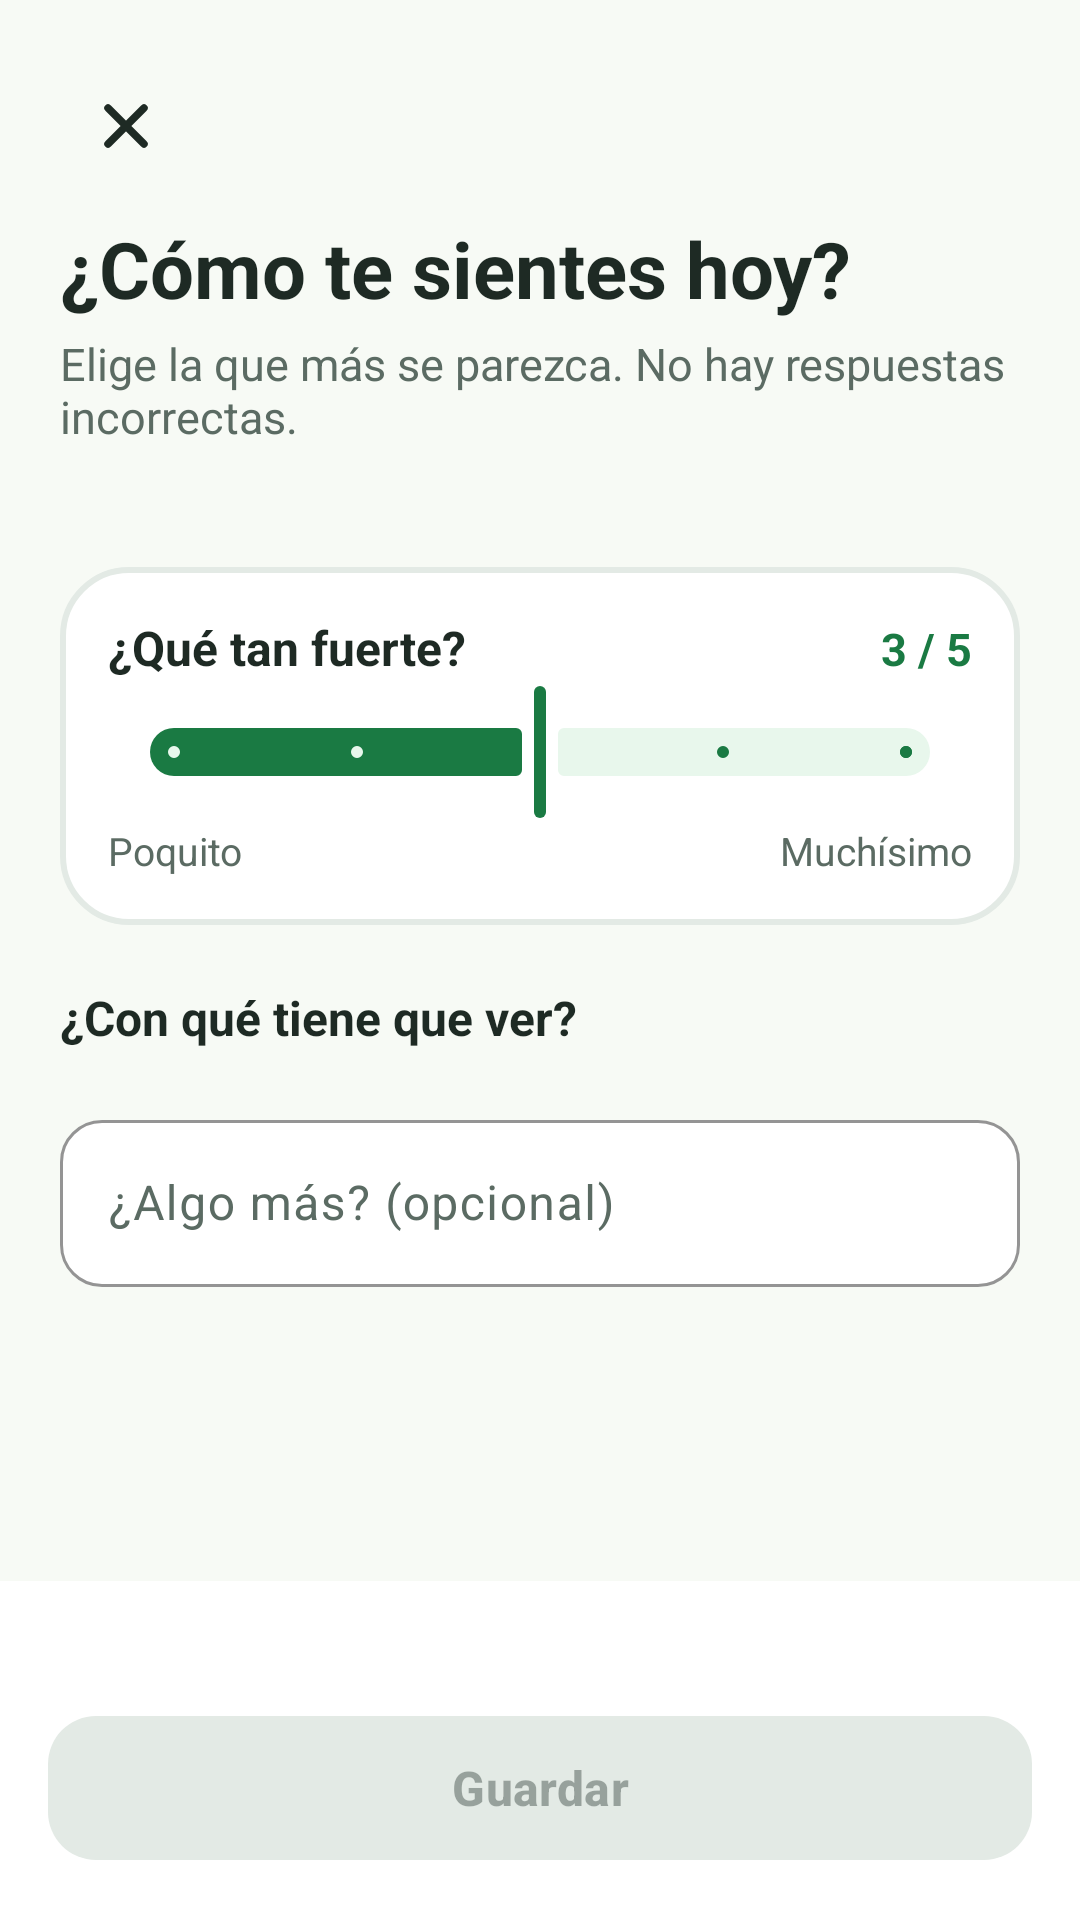

Locate icon controls on the screen. Image size 1080px x 1920px, boxes as (x1=x1, y1=y1, x2=x2, y2=y2).
Cerrar: (x1=104, y1=104, x2=148, y2=148)
